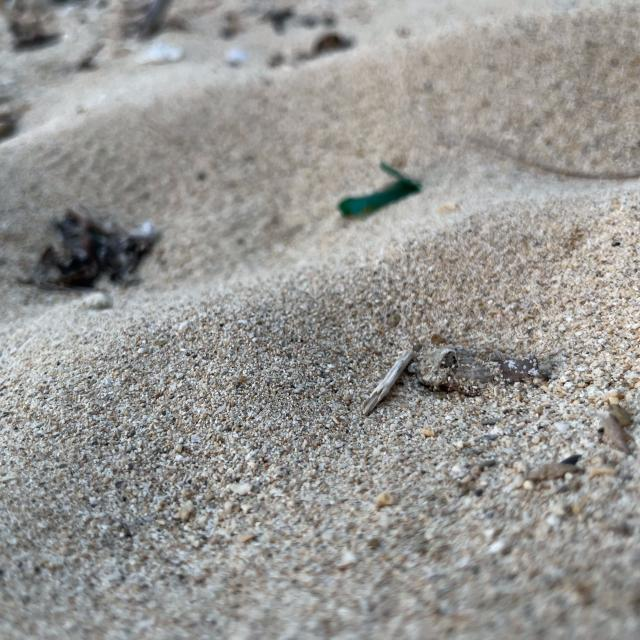seaweed: (0, 193, 175, 296)
trash: (333, 161, 431, 224)
